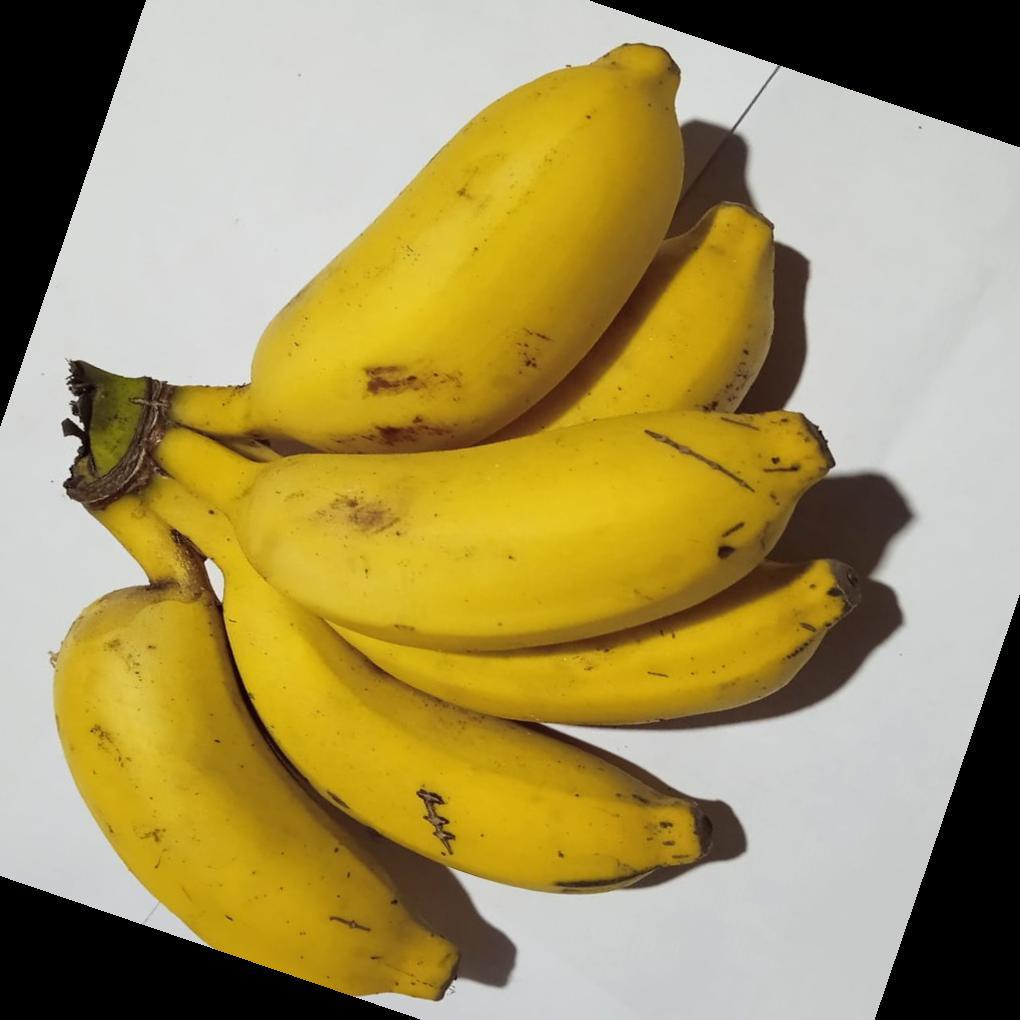Banana Ripe: (62, 40, 870, 1020), (42, 561, 746, 1020), (172, 39, 790, 471), (178, 387, 887, 731)
